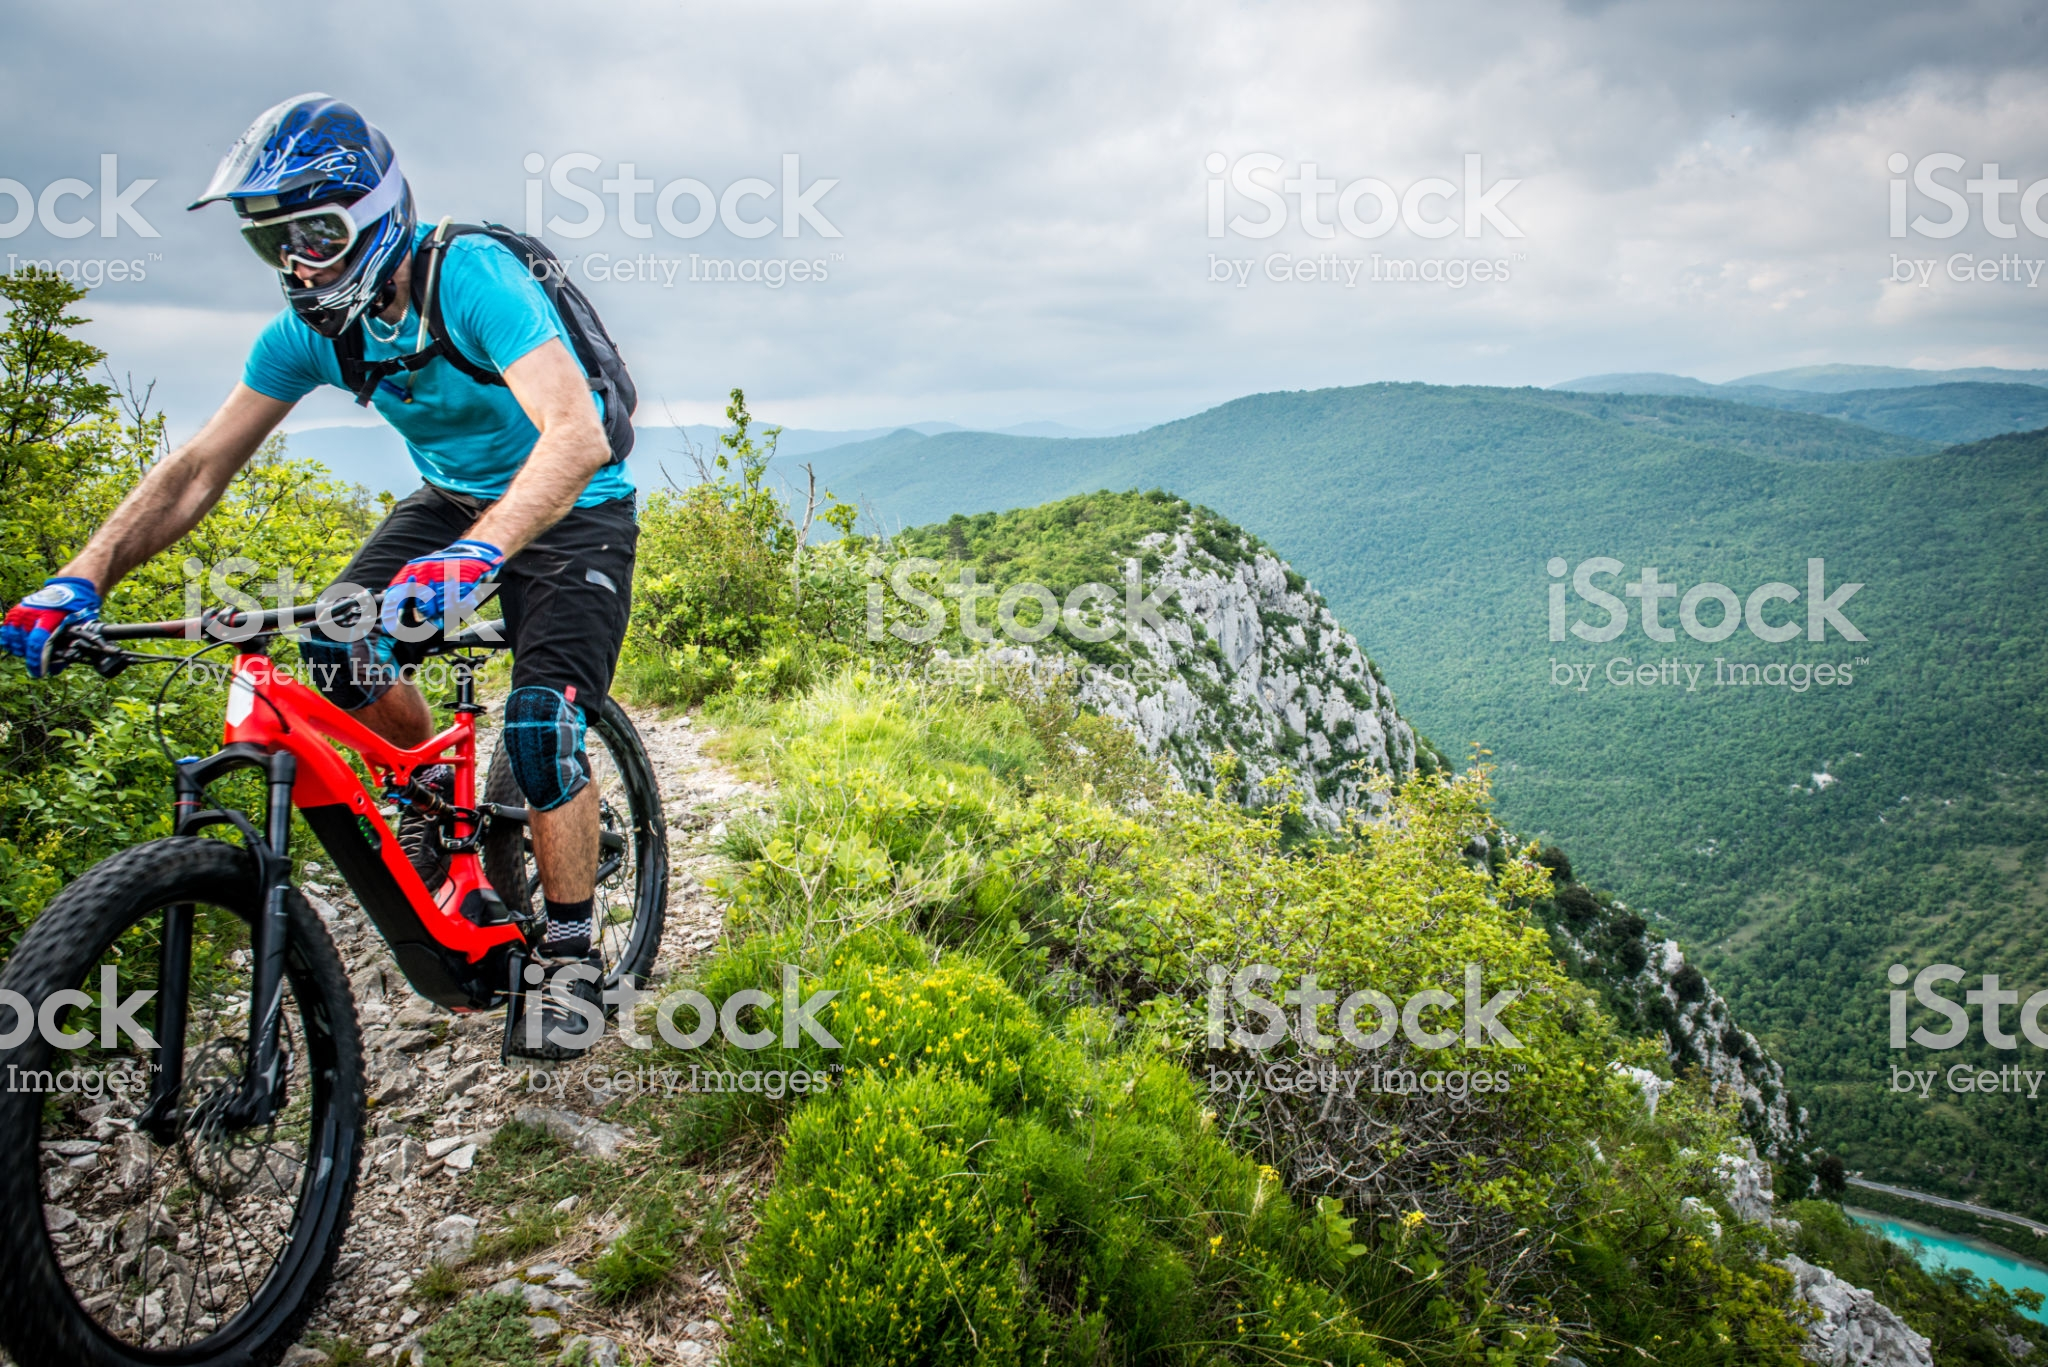helmet: (226, 92, 441, 328)
